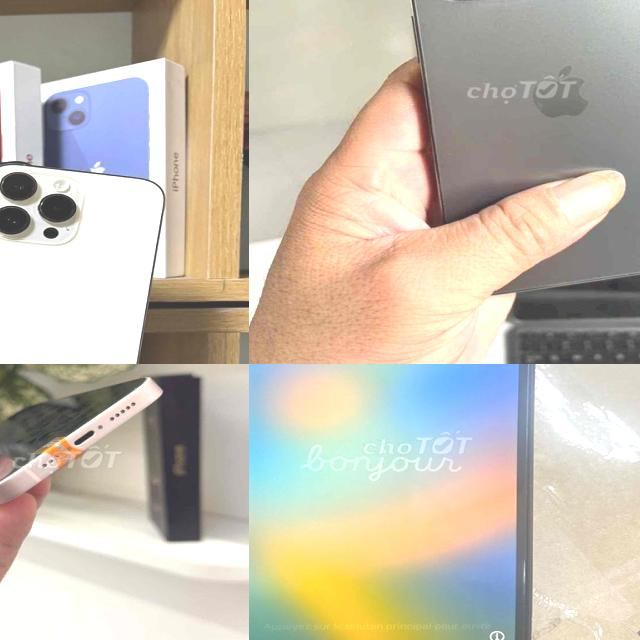gen_12_13: (390, 0, 640, 293), (0, 367, 181, 531)
gen_14: (0, 164, 170, 364)
